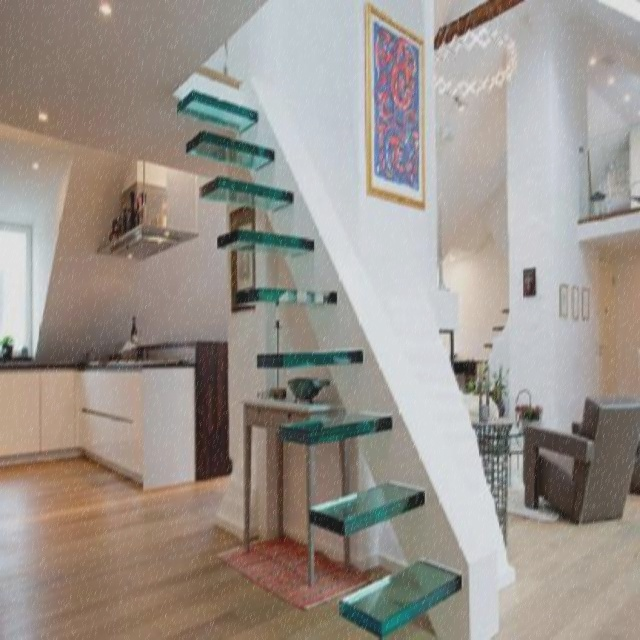stair: (169, 30, 494, 639)
